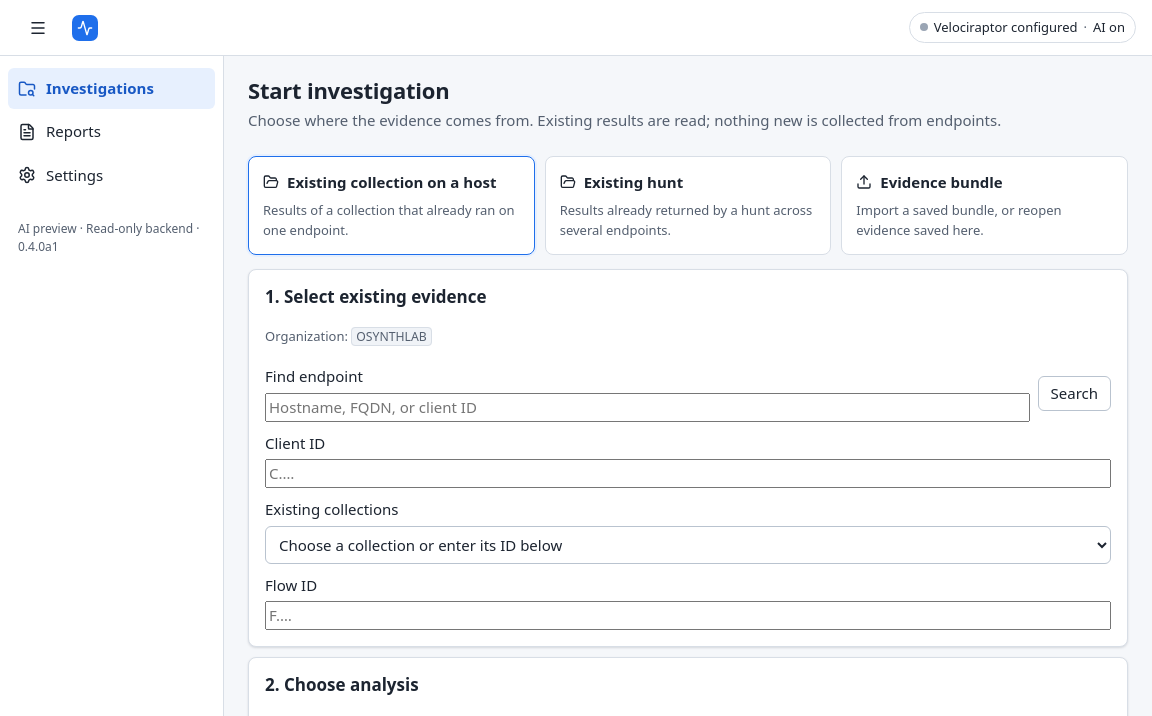
Test: Read-only investigation scope › rejects a late plan after the analyst changes the flow
In the field labelled "Client ID": (688, 474) x1=265 y1=459 x2=1111 y2=488, type "C.1a2b3c"
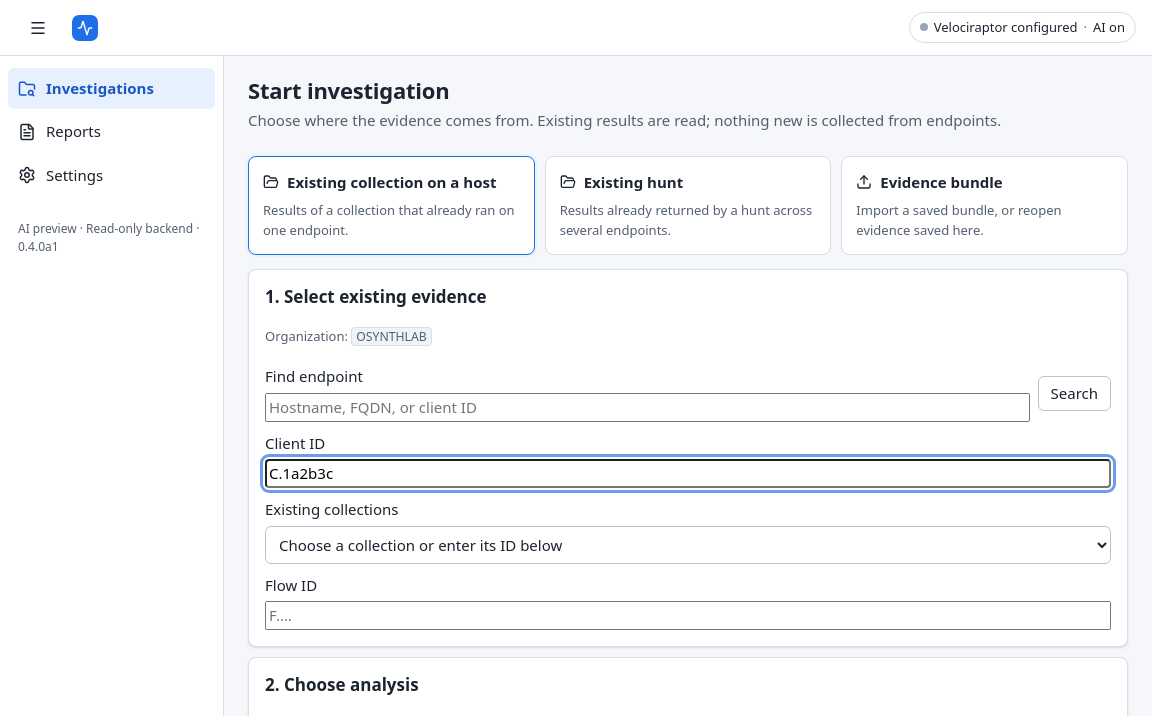
In the field labelled "Flow ID": (688, 616) x1=265 y1=601 x2=1111 y2=630, type "F.ABC"
(page scrolled)
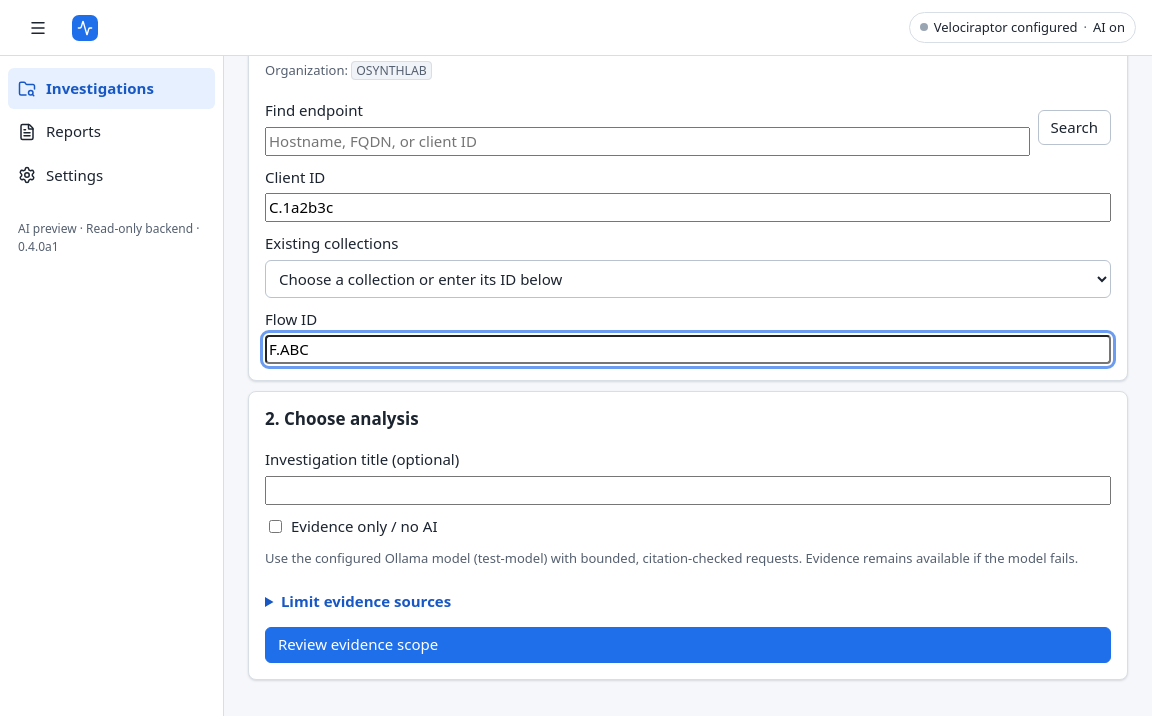
Click the button "Review evidence scope": (358, 644) x1=265 y1=627 x2=1111 y2=663
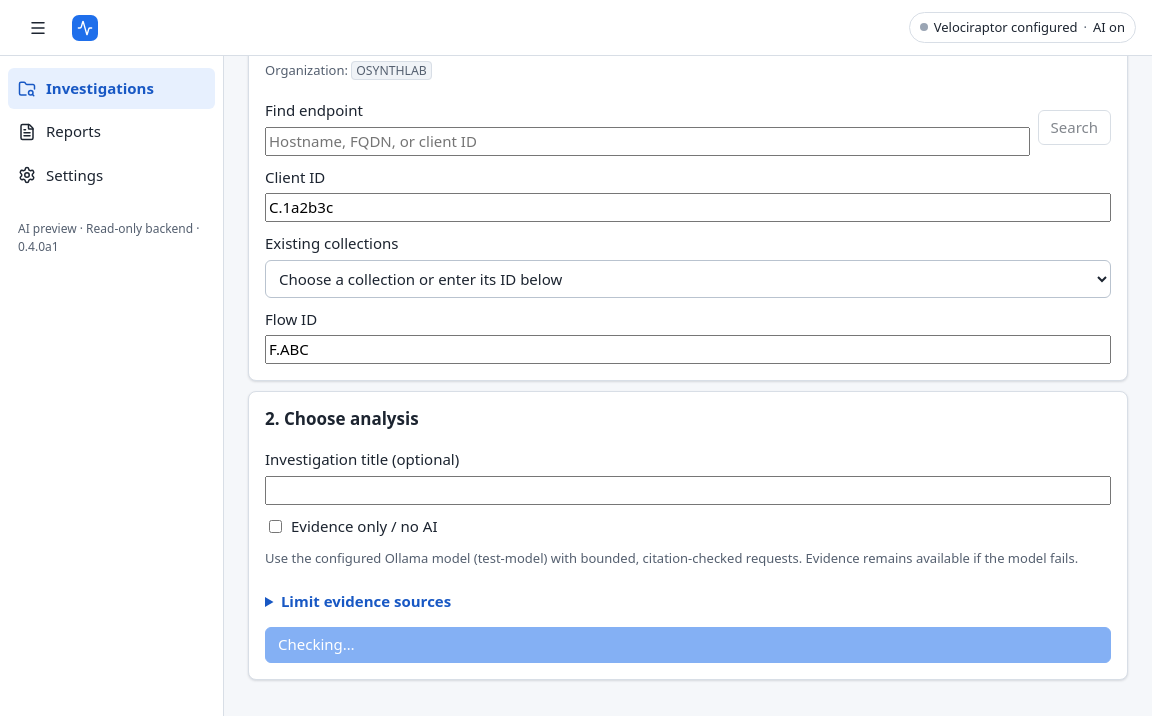
In the field labelled "Flow ID": (688, 350) x1=265 y1=335 x2=1111 y2=364, type "D"
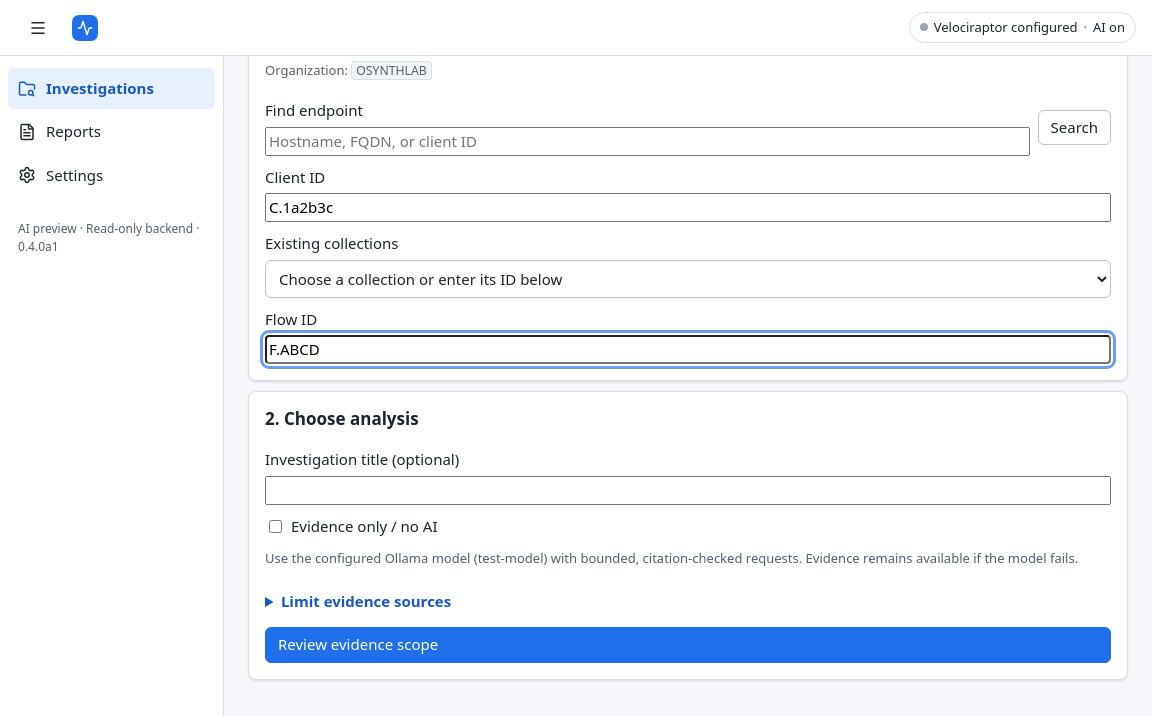
Now the button "Review evidence scope" is enabled, box x1=265 y1=627 x2=1111 y2=663
